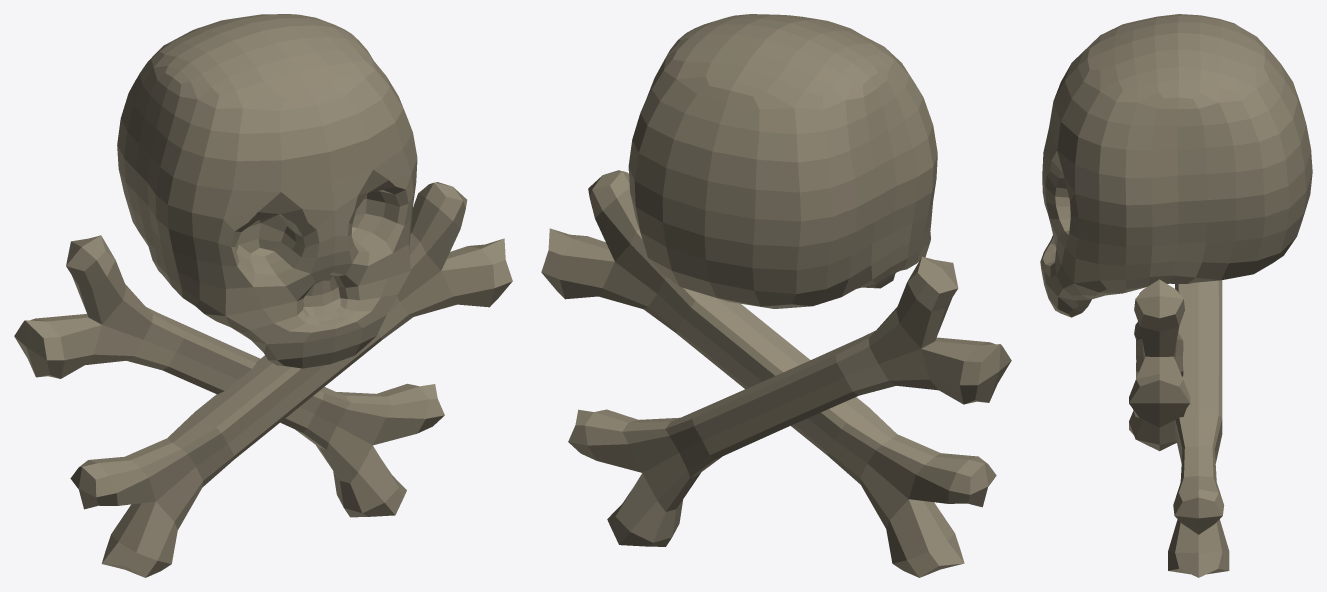
The model's file is Skull-ExZmhOIjka.glb.
3 views of the same model, side by side, from view 1: azimuth 30°, elevation 25°; view 2: azimuth 150°, elevation 25°; view 3: azimuth 270°, elevation 25° (orthographic). The views are drawn at different scales.
Visible parts, largest first — view 1: Skull2; view 2: Skull2; view 3: Skull2.
Part boxes in pixels (left/top/right/bottom): Skull2: left=14, top=14, right=512, bottom=577; Skull2: left=541, top=14, right=1011, bottom=577; Skull2: left=1040, top=14, right=1312, bottom=577.
Bounding box in the file's own units: 0.8581 × 0.9274 × 0.4708.
